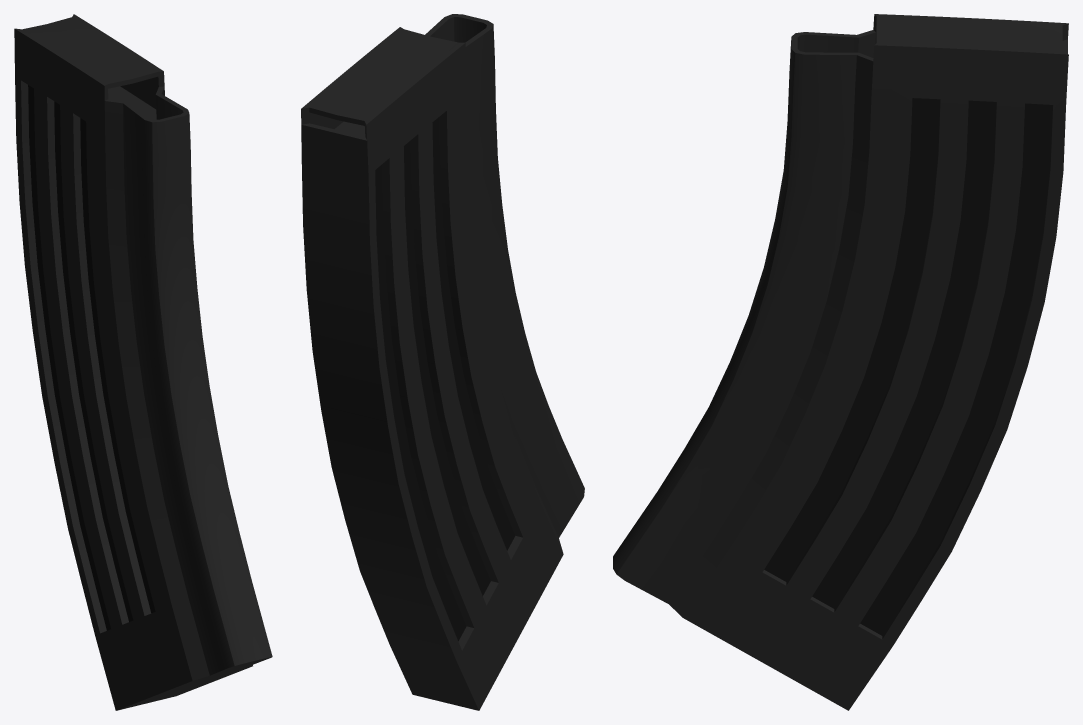
File: mag_2.fbx
3 views of the same model, side by side, from view 1: azimuth 30°, elevation 25°; view 2: azimuth 150°, elevation 25°; view 3: azimuth 270°, elevation 25° (orthographic). The views are drawn at different scales.
Visible parts, largest first — view 1: mag_2; view 2: mag_2; view 3: mag_2.
Boxes of the visible parts, left/top/right/bottom form: mag_2: left=14, top=14, right=272, bottom=710; mag_2: left=301, top=14, right=584, bottom=710; mag_2: left=613, top=14, right=1068, bottom=710.
Bounding box in the file's own units: 92.15 × 892 × 554.
